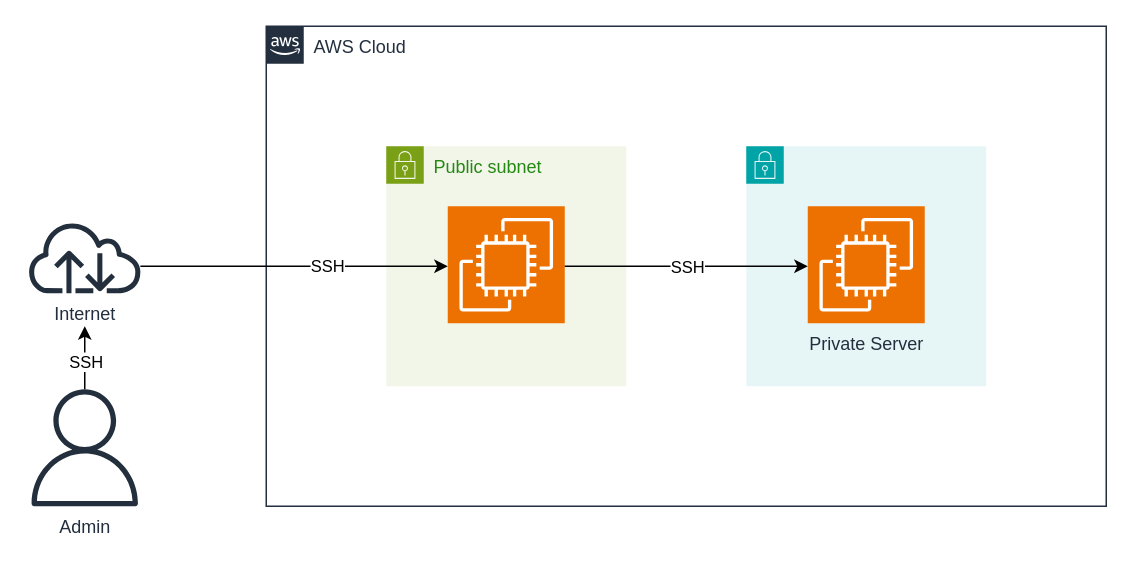
The diagram is 1133 pixels wide and 564 high, and some of its shapes have lost their labels. The box of each missing label's shape, as (x1, y1, x2, y2) in pixels:
Private subnet: (745, 145, 986, 386)
SSH Jump Host: (446, 205, 565, 323)
